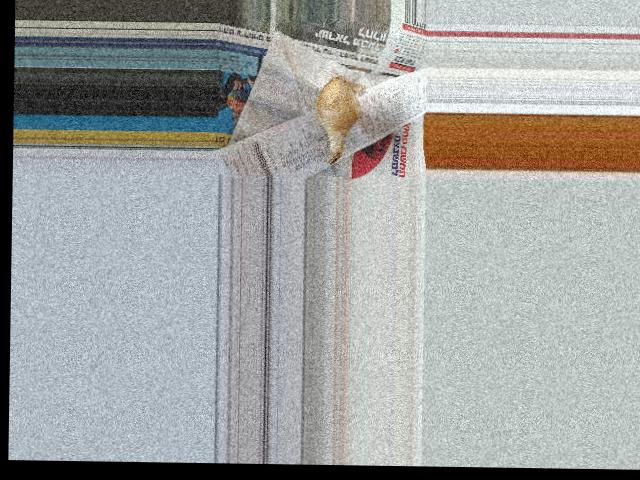onion: (316, 79, 358, 142)
